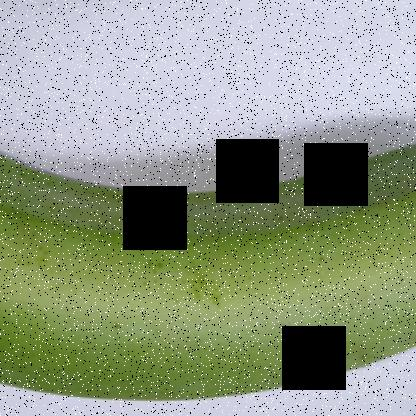freshunripe: (1, 104, 416, 415)
